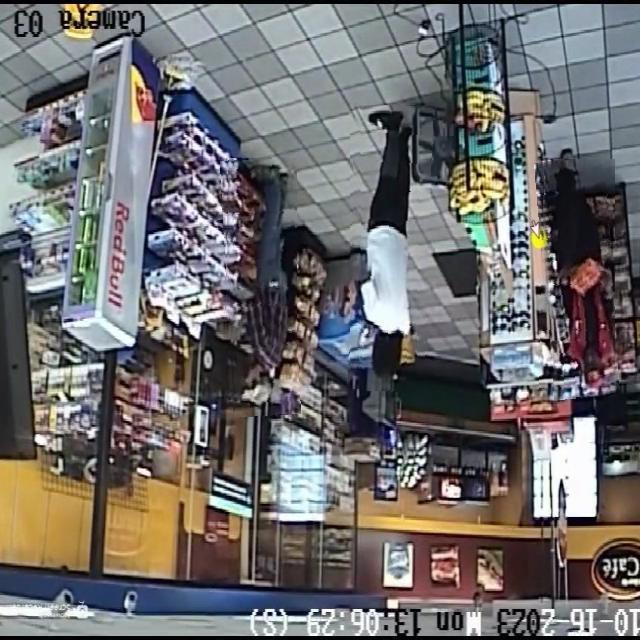Normal: (350, 105, 430, 394), (223, 158, 297, 417), (539, 159, 615, 399)
